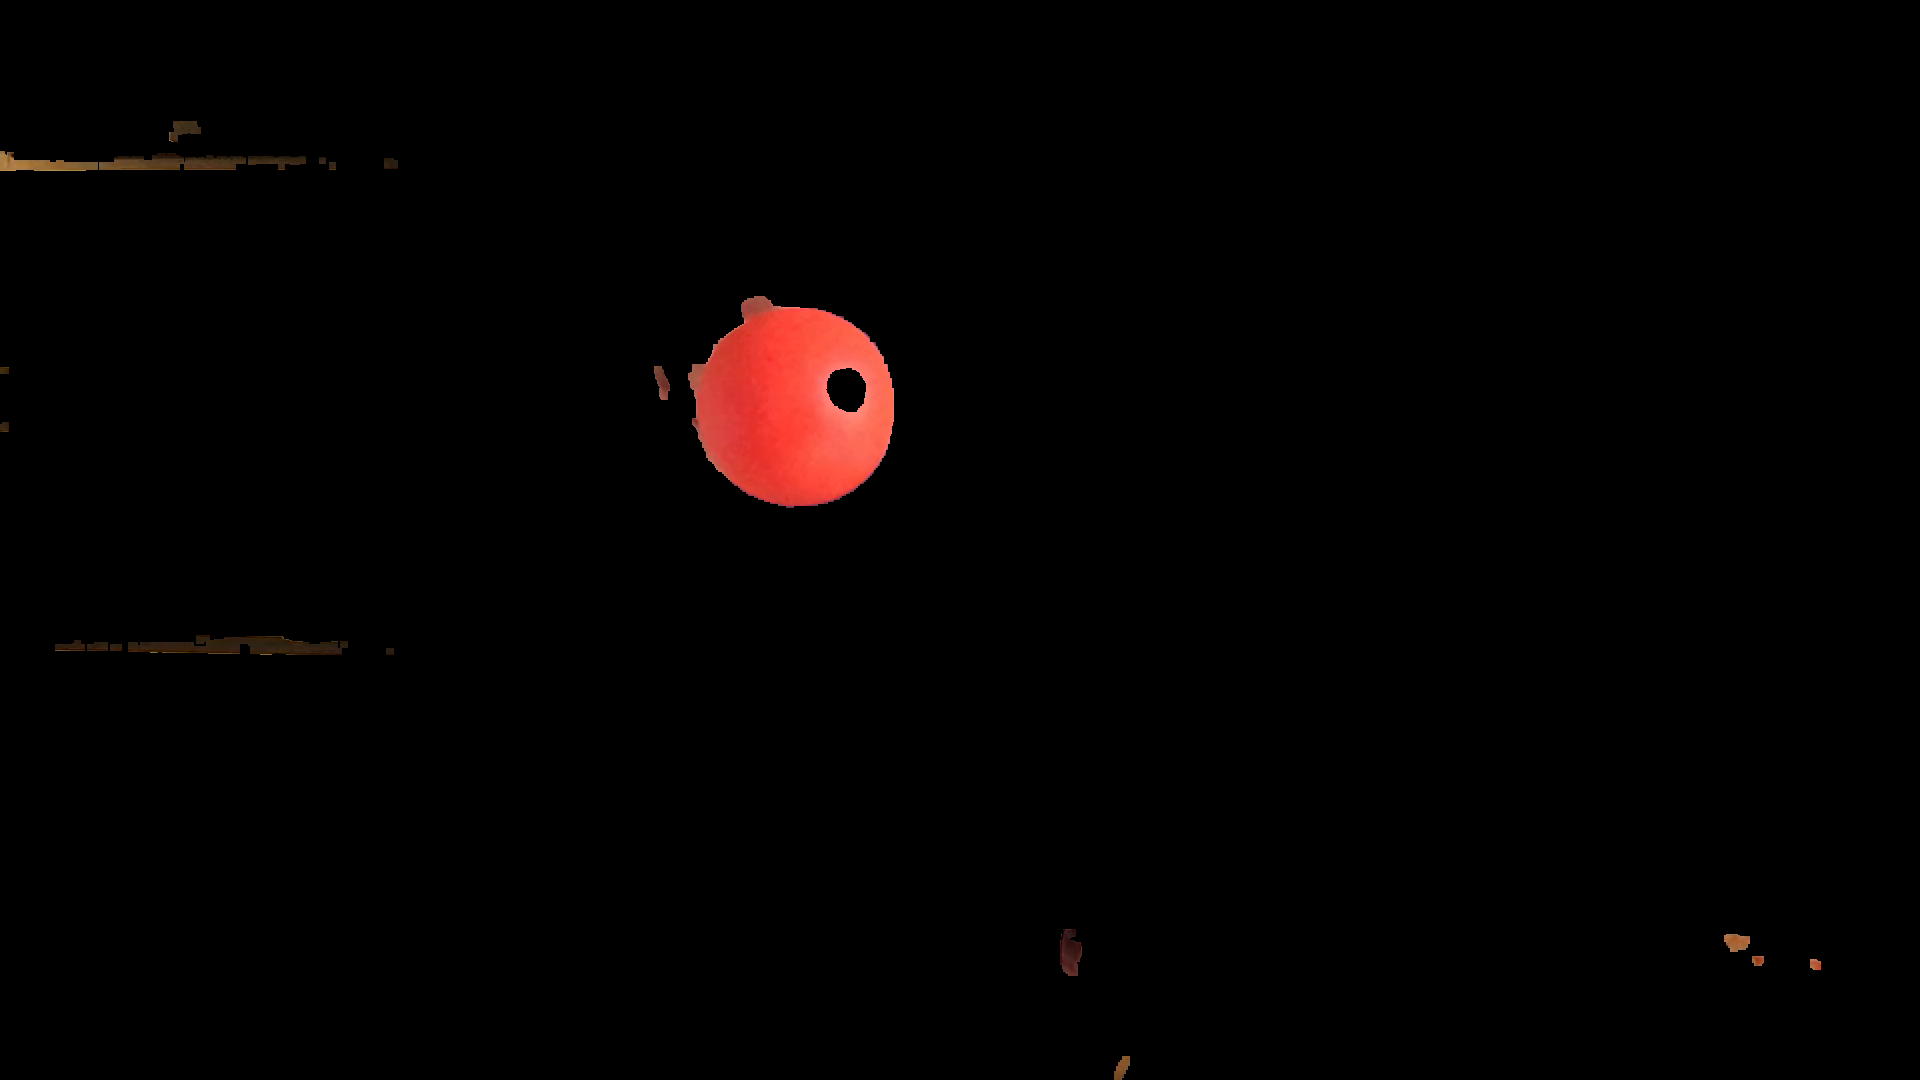Ball: (704, 301, 895, 505)
